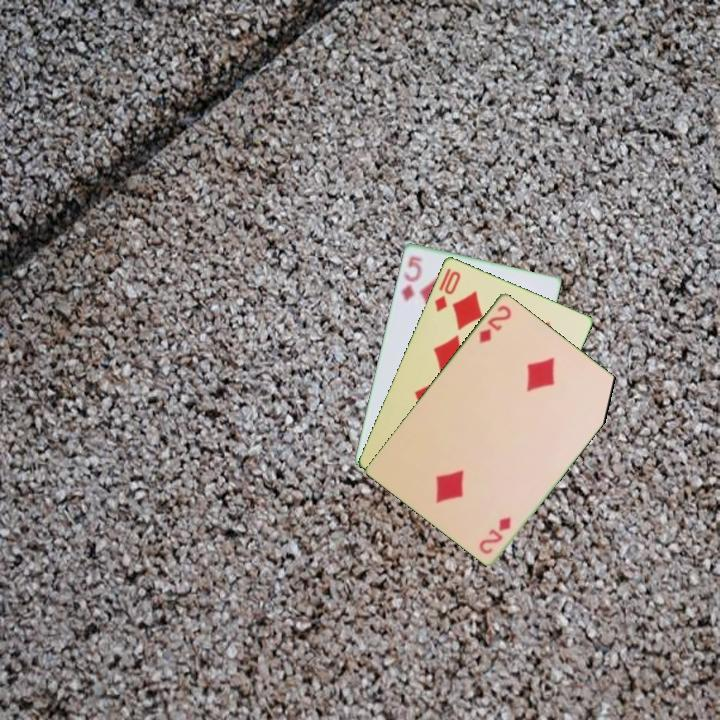10d: (431, 267, 463, 314)
2d: (475, 301, 514, 346), (475, 513, 514, 557)
5d: (398, 252, 425, 304)
